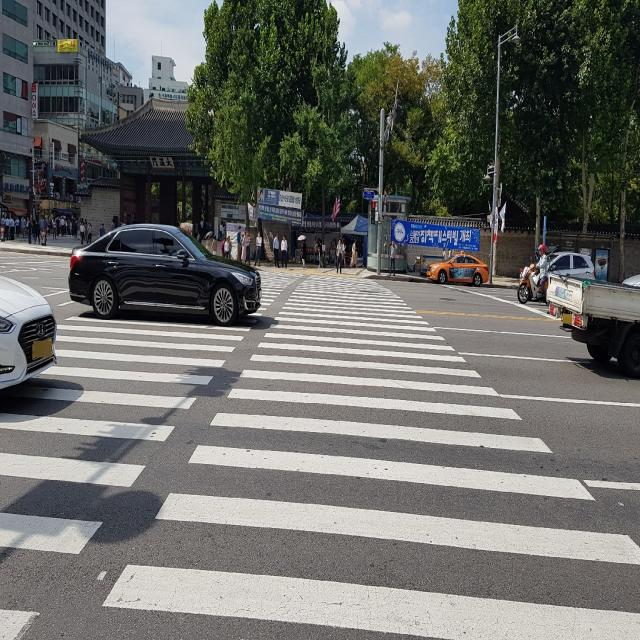횡단보도: (0, 266, 640, 638)
